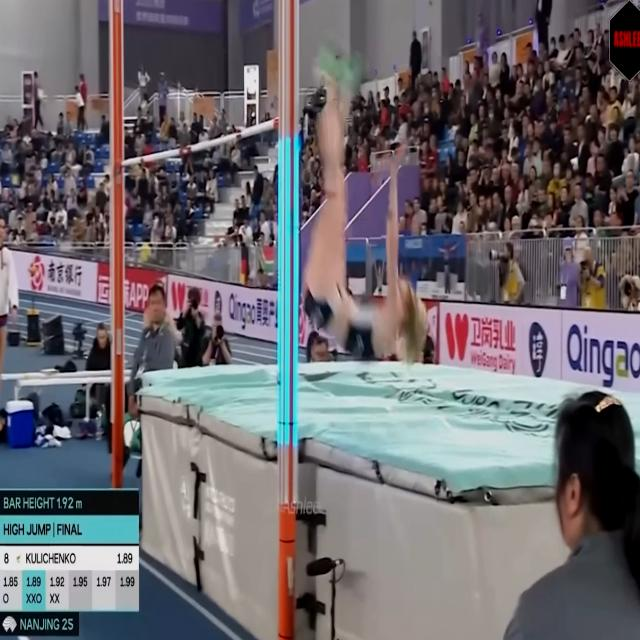land: (304, 48, 424, 360)
